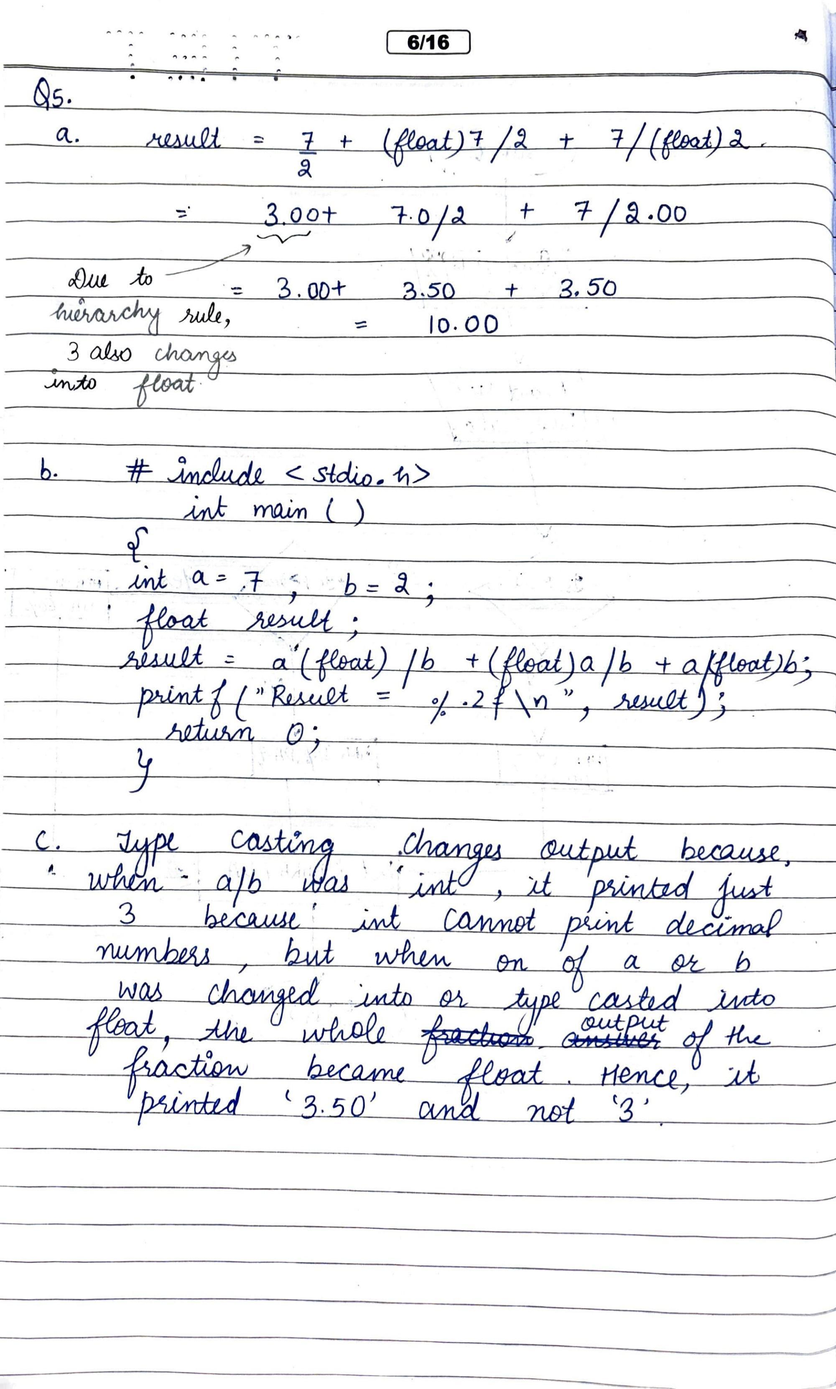cuttings: (419, 1011, 538, 1066), (560, 1030, 662, 1051)
